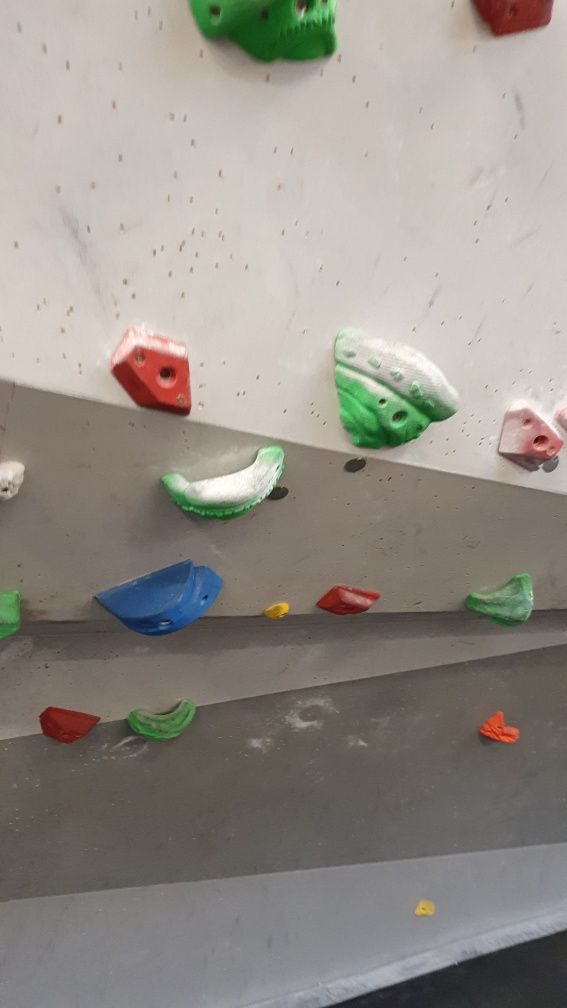Crimp: (109, 324, 202, 421), (494, 403, 561, 470), (312, 579, 386, 622), (38, 705, 108, 748)
Hand Start: (261, 482, 295, 507), (344, 453, 370, 479), (539, 452, 564, 474)
Jug: (329, 321, 465, 452), (155, 441, 289, 527), (462, 569, 540, 629), (127, 697, 205, 748)
Pinch: (89, 556, 234, 639)
